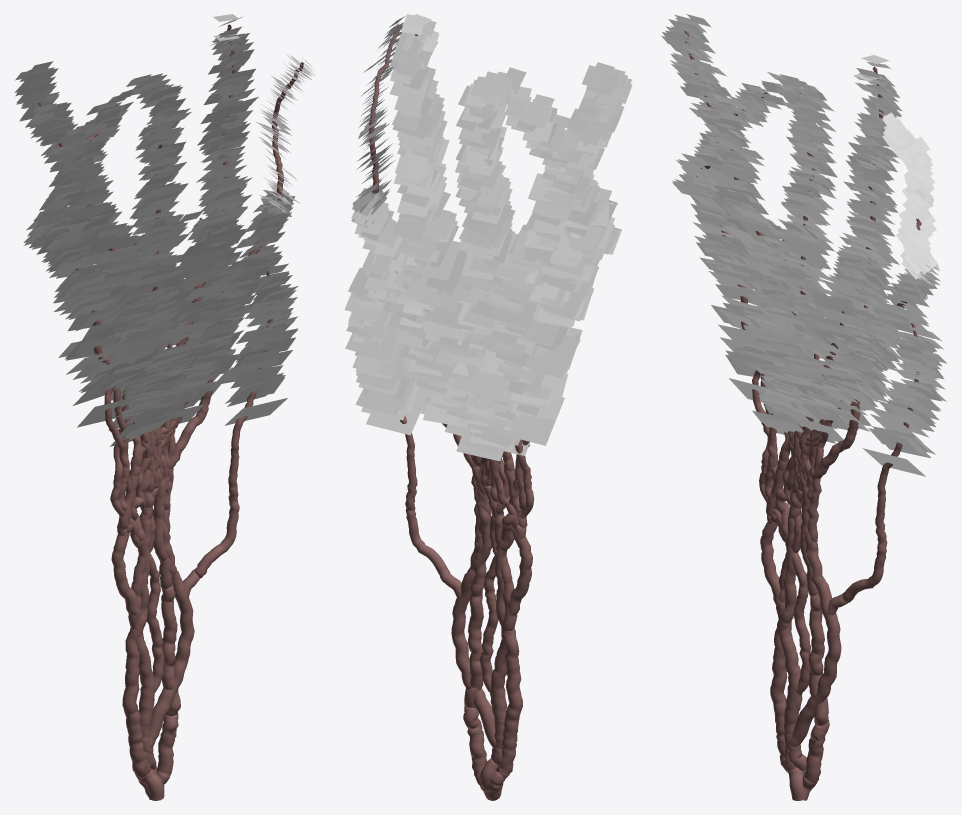
Rendered from big ivy 5.fbx.
3 renders of one model, left to right at view 1: azimuth 30°, elevation 25°; view 2: azimuth 150°, elevation 25°; view 3: azimuth 330°, elevation 25°, orthographic.
Visible parts, largest first — view 1: IvyLeaf.028, IvyLeaf.027, IvyLeaf.026, IVY_Curve.024, IVY_Curve.023, IVY_Curve.022, IVY_Curve.021, IvyLeaf.025; view 2: IvyLeaf.028, IvyLeaf.027, IvyLeaf.026, IVY_Curve.024, IvyLeaf.025, IVY_Curve.023, IVY_Curve.021, IVY_Curve.022; view 3: IvyLeaf.028, IvyLeaf.027, IvyLeaf.026, IVY_Curve.024, IvyLeaf.025, IVY_Curve.023, IVY_Curve.022, IVY_Curve.021.
Part boxes in pixels (x1,y1,x2,y2): IvyLeaf.028: [23, 73, 253, 446]; IvyLeaf.027: [115, 14, 297, 425]; IvyLeaf.026: [14, 61, 195, 427]; IVY_Curve.024: [50, 87, 225, 800]; IVY_Curve.023: [135, 24, 272, 799]; IVY_Curve.022: [37, 82, 172, 800]; IVY_Curve.021: [153, 62, 303, 792]; IvyLeaf.025: [143, 53, 314, 403]; IvyLeaf.028: [388, 67, 621, 461]; IvyLeaf.027: [344, 14, 519, 445]; IvyLeaf.026: [442, 62, 632, 445]; IVY_Curve.024: [480, 439, 534, 796]; IvyLeaf.025: [351, 16, 484, 419]; IVY_Curve.023: [400, 34, 505, 800]; IVY_Curve.021: [368, 24, 490, 799]; IVY_Curve.022: [485, 440, 529, 796]; IvyLeaf.028: [672, 72, 901, 443]; IvyLeaf.027: [758, 55, 947, 476]; IvyLeaf.026: [661, 14, 831, 422]; IVY_Curve.024: [696, 92, 870, 800]; IvyLeaf.025: [788, 112, 940, 429]; IVY_Curve.023: [784, 66, 920, 770]; IVY_Curve.022: [684, 31, 819, 800]; IVY_Curve.021: [796, 218, 921, 800].
Bounding box in the file's own units: 104 × 279 × 32.69.
